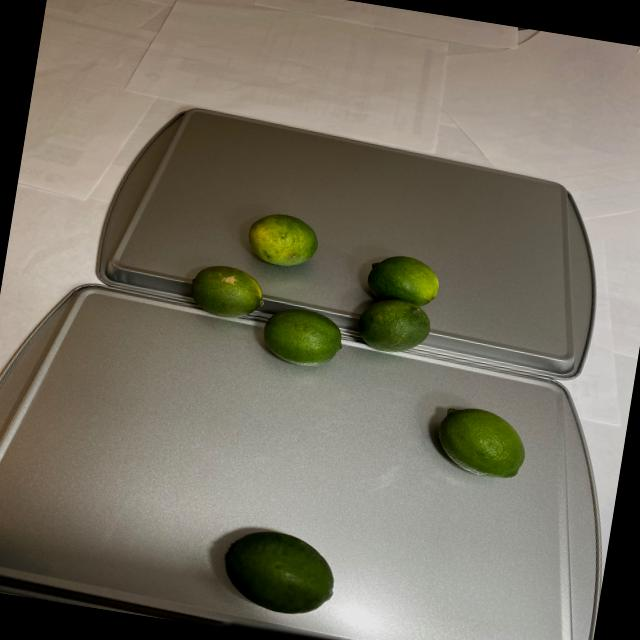lemon: (176, 202, 450, 384), (218, 526, 345, 622), (428, 399, 534, 484)
